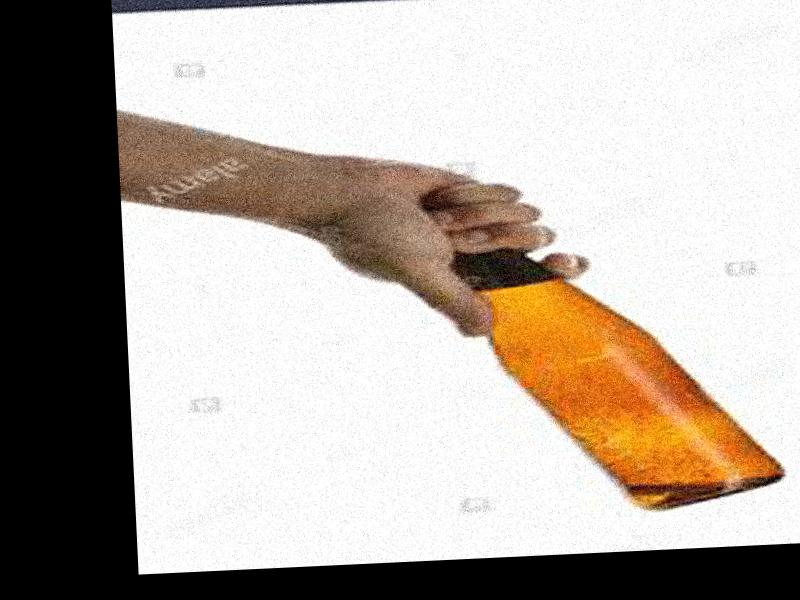Beer: (427, 179, 786, 523)
